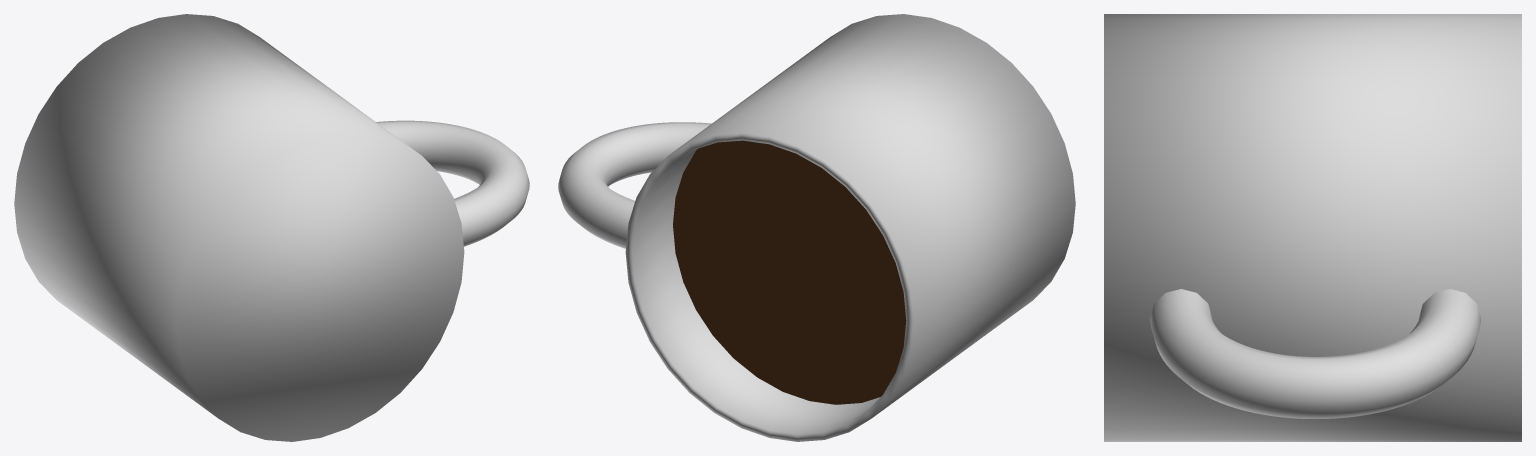
Rendered from Mug.fbx.
The picture shows the model from 3 angles, left to right: view 1: azimuth 30°, elevation 25°; view 2: azimuth 150°, elevation 25°; view 3: azimuth 270°, elevation 25°; orthographic projection. The views are drawn at different scales.
Visible parts, largest first — view 1: Mug, Mug Handle; view 2: Mug, Mug Liquid, Mug Handle; view 3: Mug, Mug Handle.
Boxes of the visible parts, bbox=[...] form: Mug: bbox=[14, 14, 464, 441]; Mug Handle: bbox=[376, 120, 529, 246]; Mug: bbox=[625, 14, 1075, 441]; Mug Liquid: bbox=[673, 140, 906, 404]; Mug Handle: bbox=[558, 122, 711, 248]; Mug: bbox=[1104, 14, 1521, 441]; Mug Handle: bbox=[1150, 289, 1480, 418].
Bounding box in the file's own units: 485 × 333 × 325.
